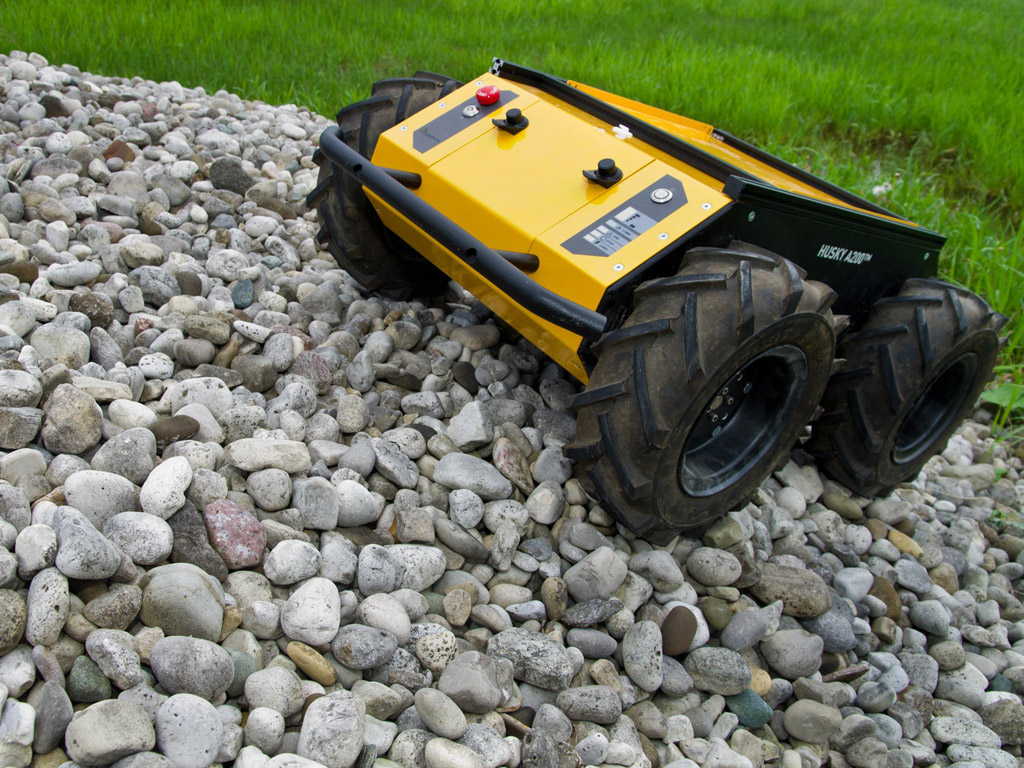husky: (305, 55, 1009, 548)
